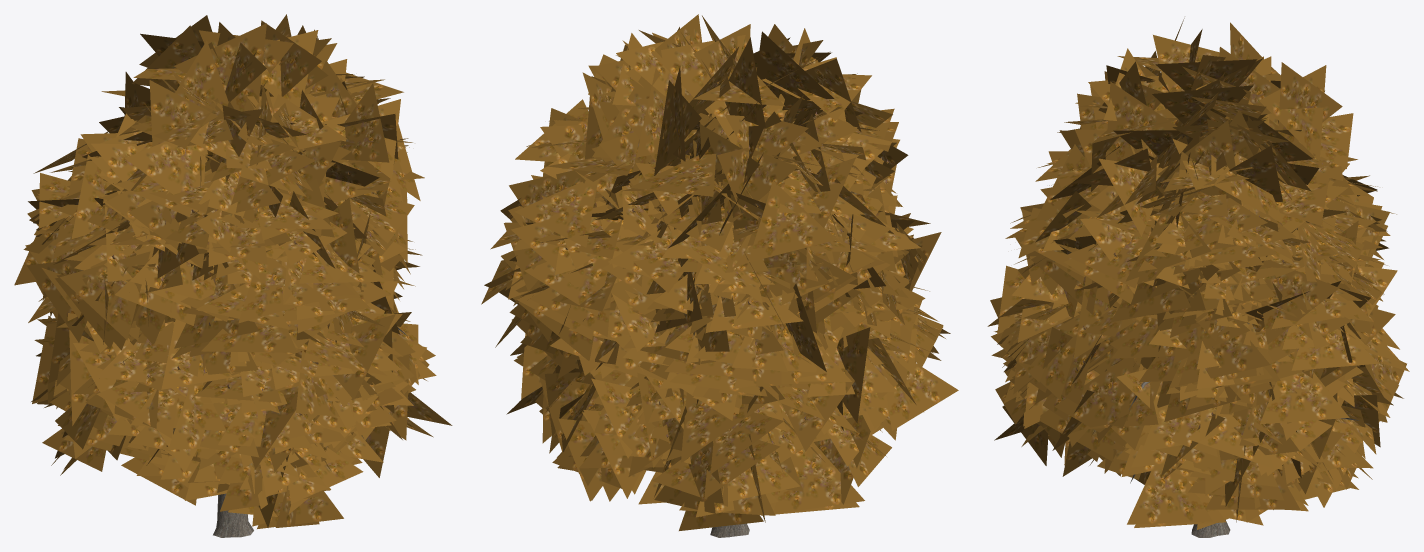
File: Aesculus_Hippocastanum_Autumn_Adult.glb
3 views of the same model, side by side, from view 1: azimuth 30°, elevation 25°; view 2: azimuth 150°, elevation 25°; view 3: azimuth 270°, elevation 25° (orthographic). The views are drawn at different scales.
Parts seen in each view (by area): view 1: Aesculus_Hippocastanum_Autumn_Adult__LOD3; view 2: Aesculus_Hippocastanum_Autumn_Adult__LOD3; view 3: Aesculus_Hippocastanum_Autumn_Adult__LOD3.
Part boxes in pixels (x1,y1,x2,y2): Aesculus_Hippocastanum_Autumn_Adult__LOD3: [14, 14, 452, 537]; Aesculus_Hippocastanum_Autumn_Adult__LOD3: [481, 14, 958, 537]; Aesculus_Hippocastanum_Autumn_Adult__LOD3: [987, 18, 1409, 537].
Bounding box in the file's own units: 15.42 × 19.88 × 15.45.
3 materials, 3 textured.
